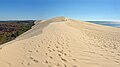human_foot_print: (31, 55, 39, 63), (55, 44, 61, 51), (43, 49, 48, 57), (61, 58, 68, 63), (56, 37, 61, 44), (47, 42, 52, 48), (44, 59, 49, 64), (50, 55, 54, 60), (40, 41, 45, 45), (34, 49, 40, 52), (57, 53, 61, 57), (36, 46, 42, 48)
